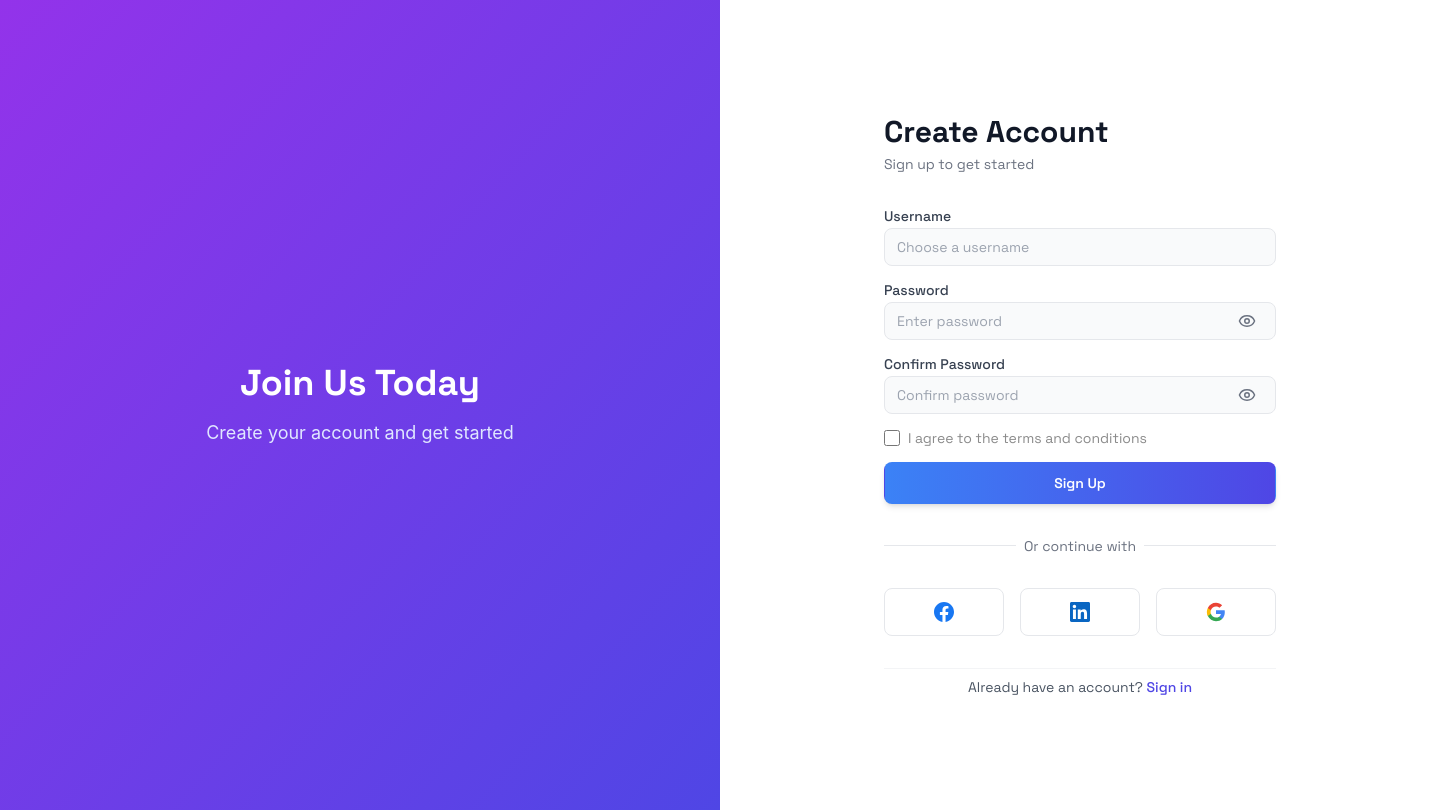
Scenario: RegisterForm › shows error when confirm password is empty
This screenshot has width=1440, height=810.
Type "testuser" into the field labelled "Username".
click(1080, 246); type("testuser")  # box [884,228,1276,266]
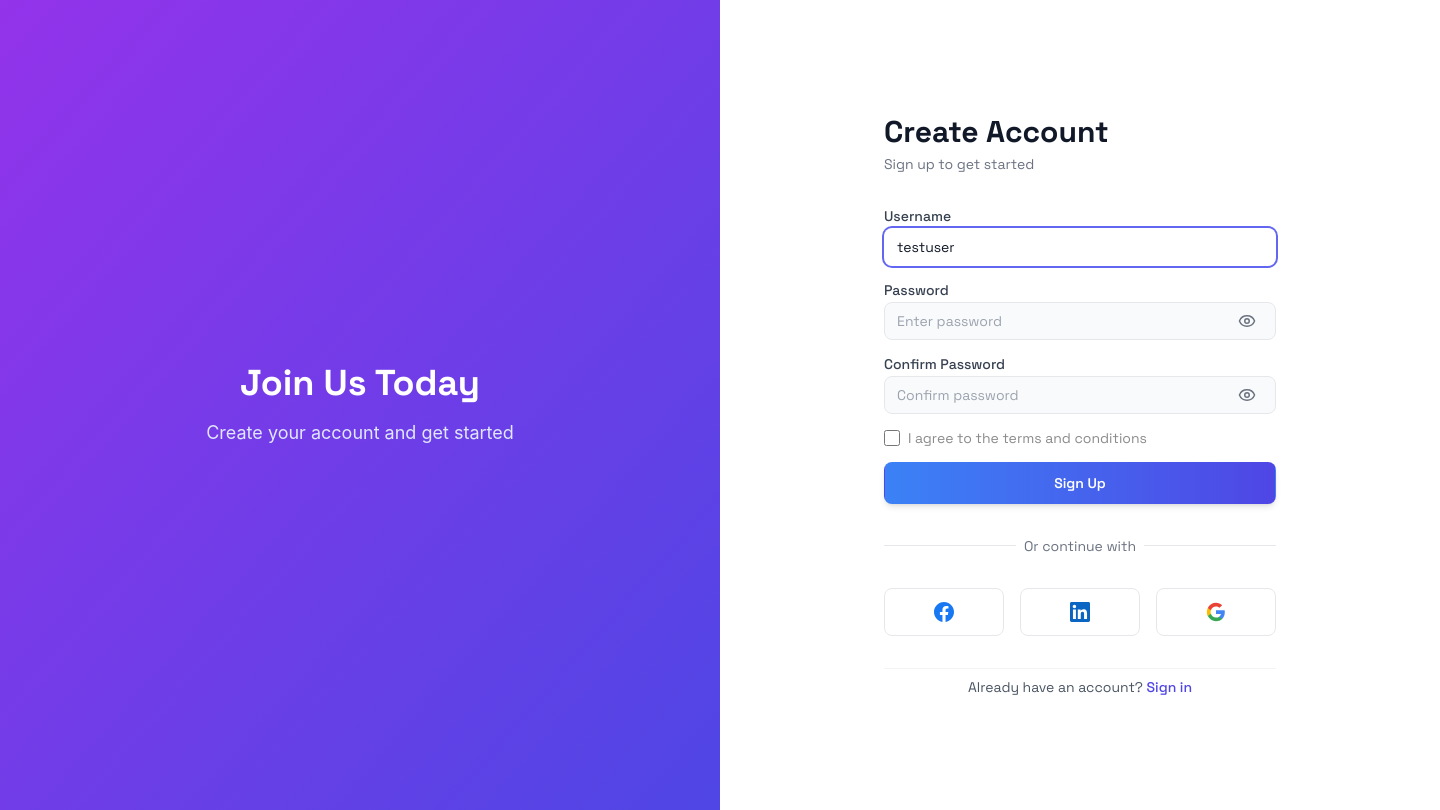
Type "password123" into the password field labelled "Password".
click(1080, 320); type("password123")  # box [884,302,1276,340]
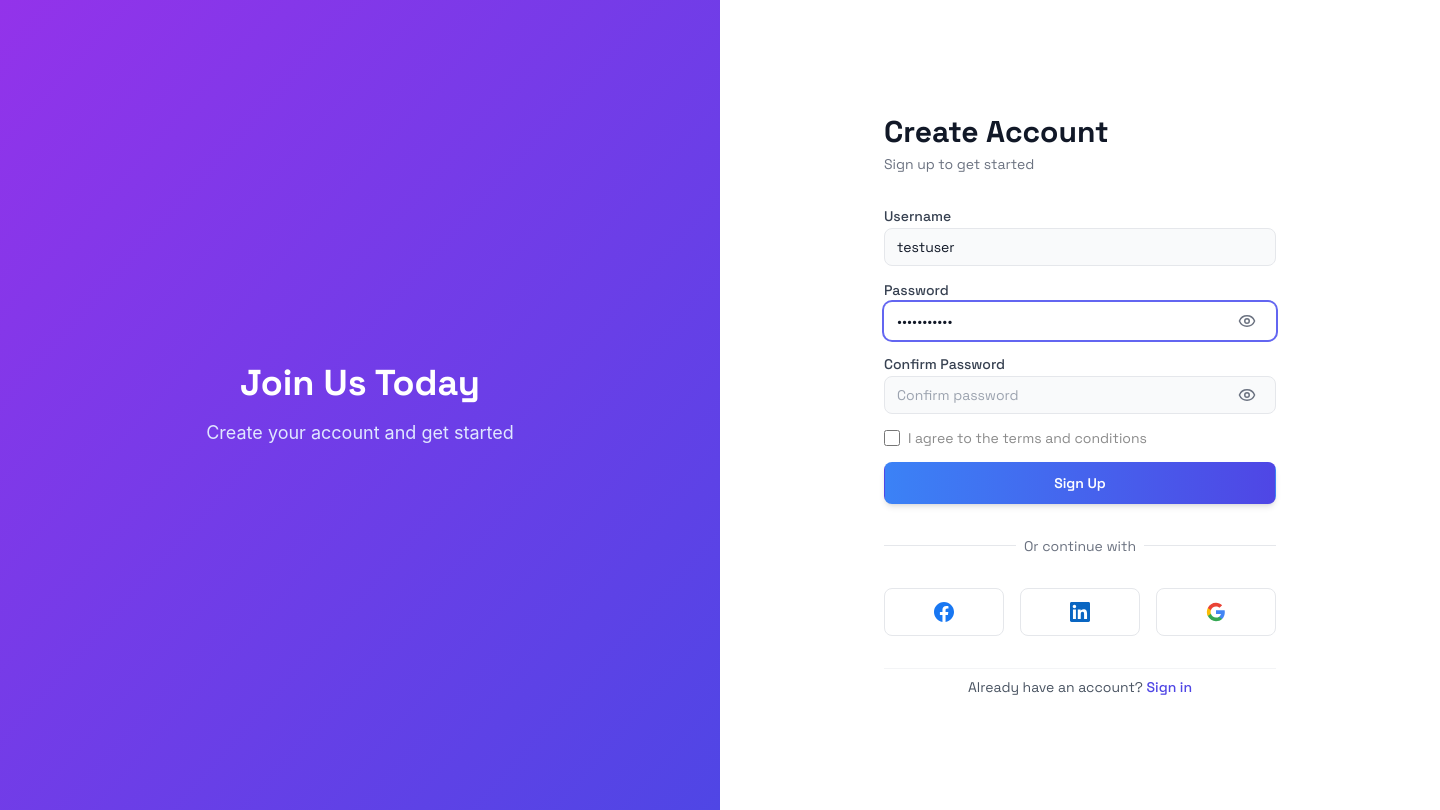
Click the button "Sign Up".
click(1080, 482)  # box [884,462,1276,504]
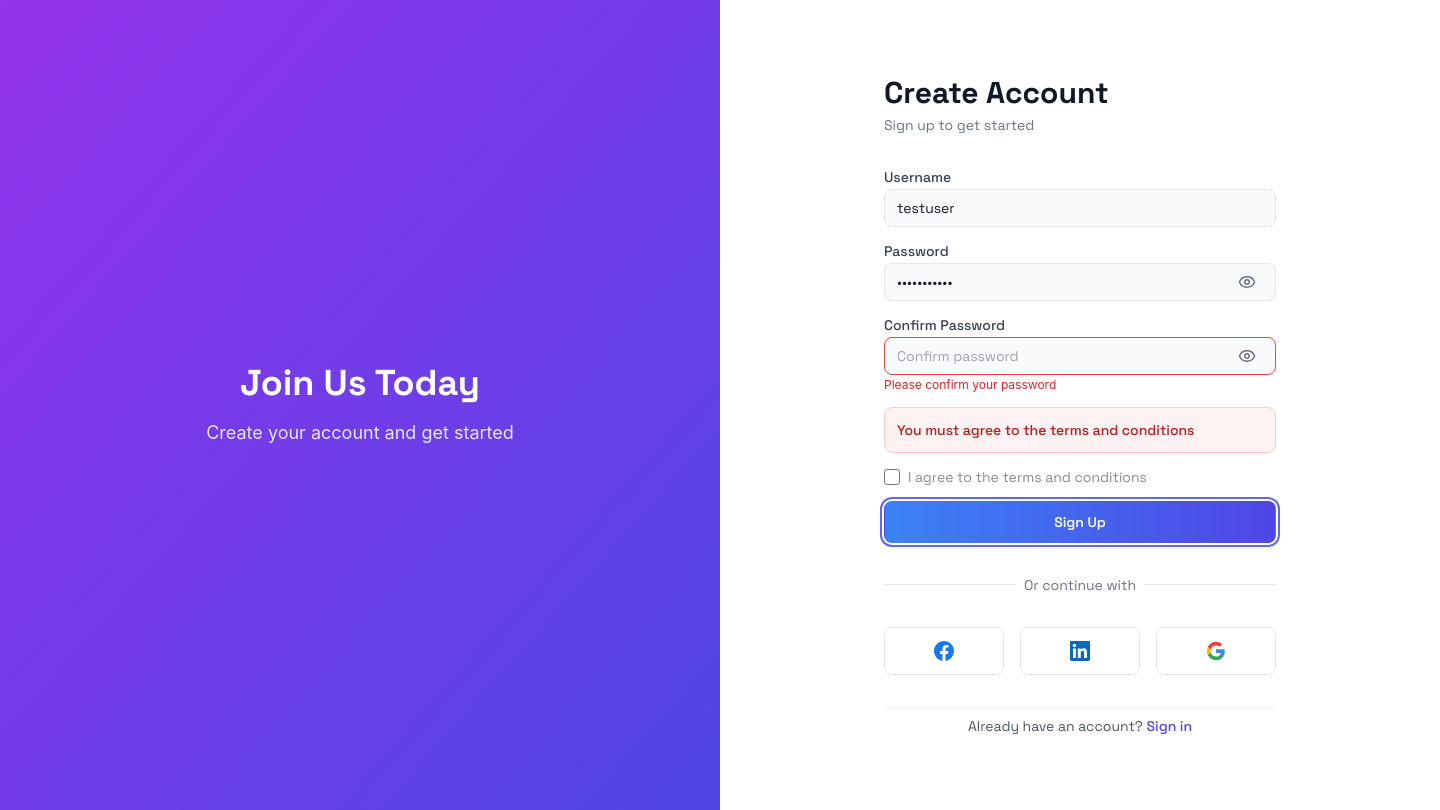
Check: the text "Please confirm your password" is shown, box [884,376,1056,392]
